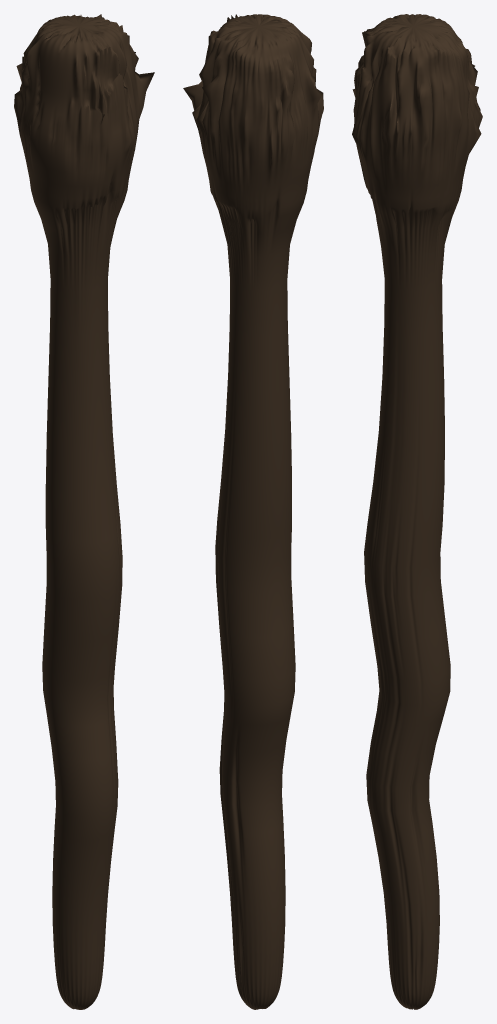
Rendered from stab.fbx.
The picture shows the model from 3 angles, left to right: view 1: azimuth 30°, elevation 25°; view 2: azimuth 210°, elevation 25°; view 3: azimuth 270°, elevation 25°; orthographic projection.
Parts seen in each view (by area): view 1: Cylinder.003; view 2: Cylinder.003; view 3: Cylinder.003.
Part boxes in pixels (left/top/right/bottom): Cylinder.003: left=14, top=14, right=154, bottom=1009; Cylinder.003: left=183, top=14, right=323, bottom=1009; Cylinder.003: left=352, top=14, right=482, bottom=1009.
Size of the model in its own units: 26.07 by 212 by 25.51.
